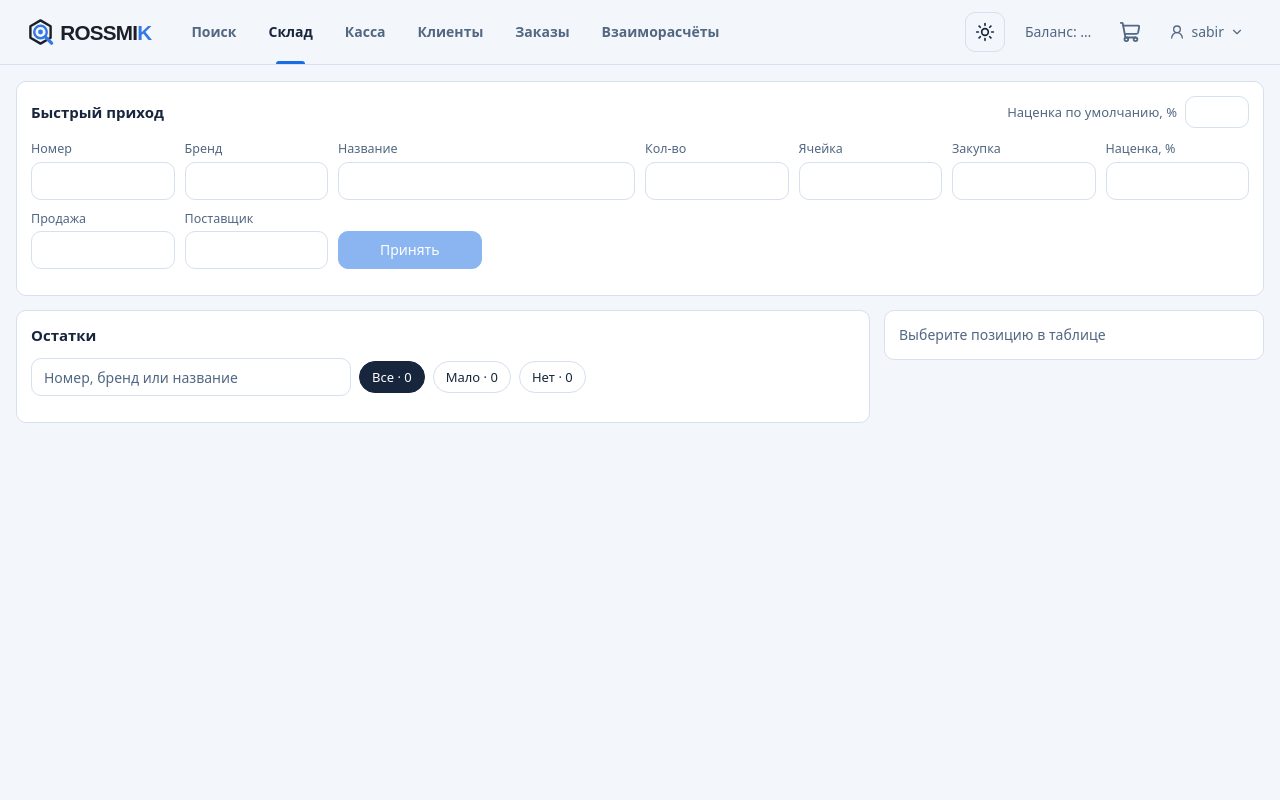
Scenario: Layout › asks for confirmation and sends no request on opening
The width and height of the screenshot is (1280, 800).
Click the button "sabir" at (1207, 32), box [1161,16,1252,48]
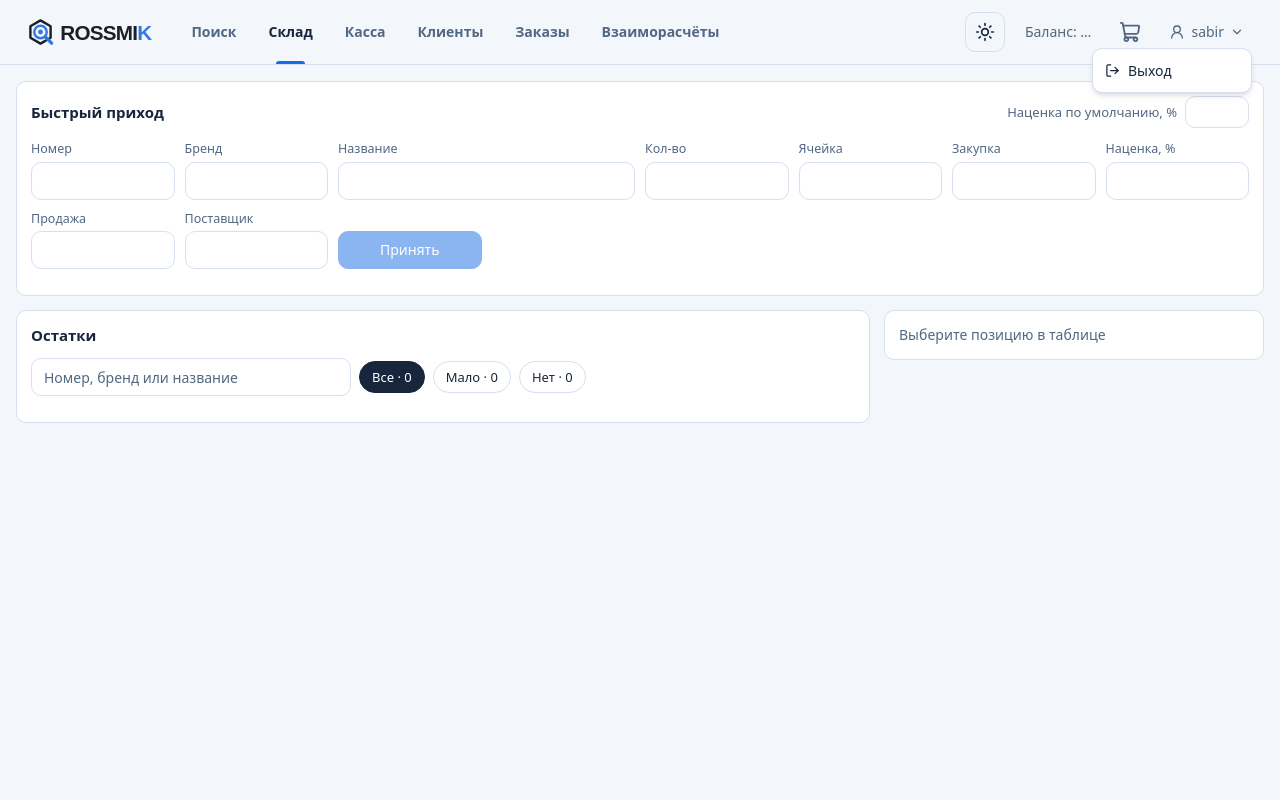
Click the menu item "Выход" at (1172, 71), box [1093,53,1251,88]
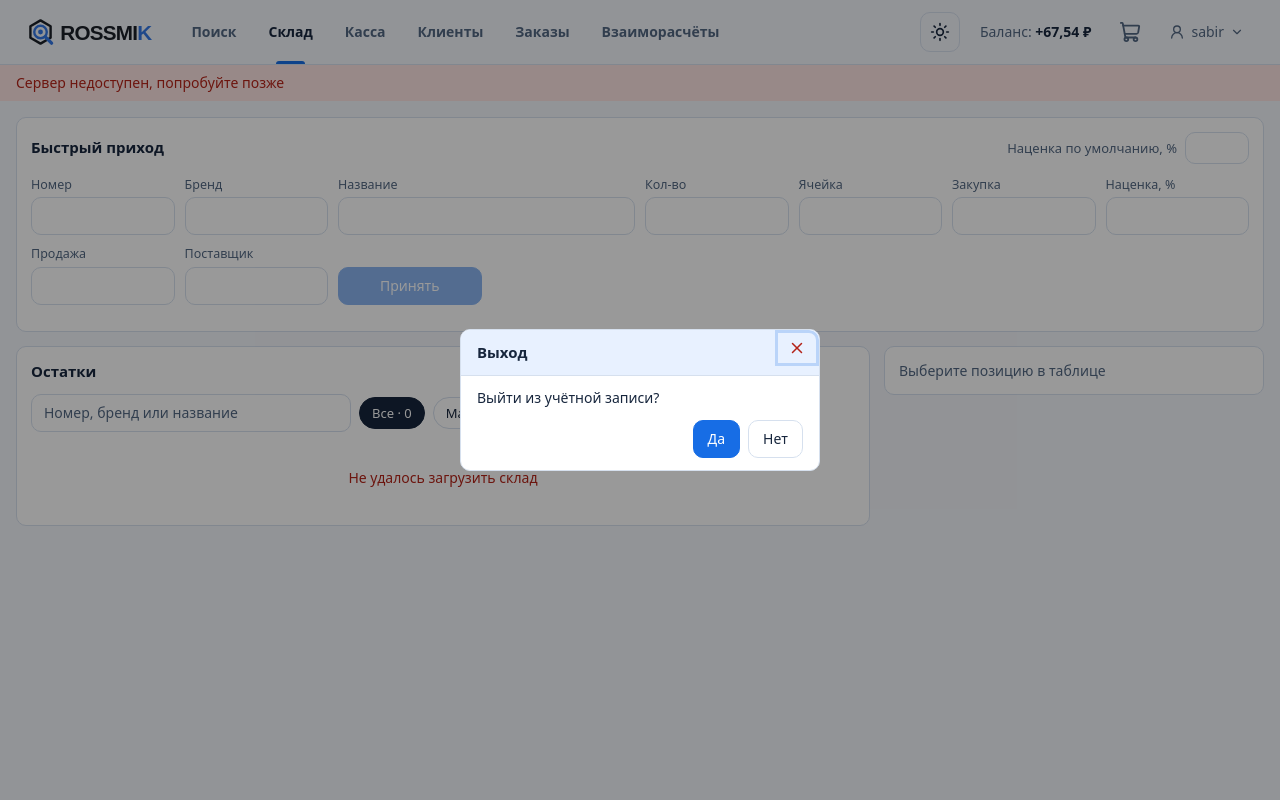
Result: the dialog shows "Выйти из учётной записи?" at [477,388,659,407]
Result: the button "Да" is enabled at [692,420,740,458]
Result: the button "Нет" is enabled at [748,420,803,458]
